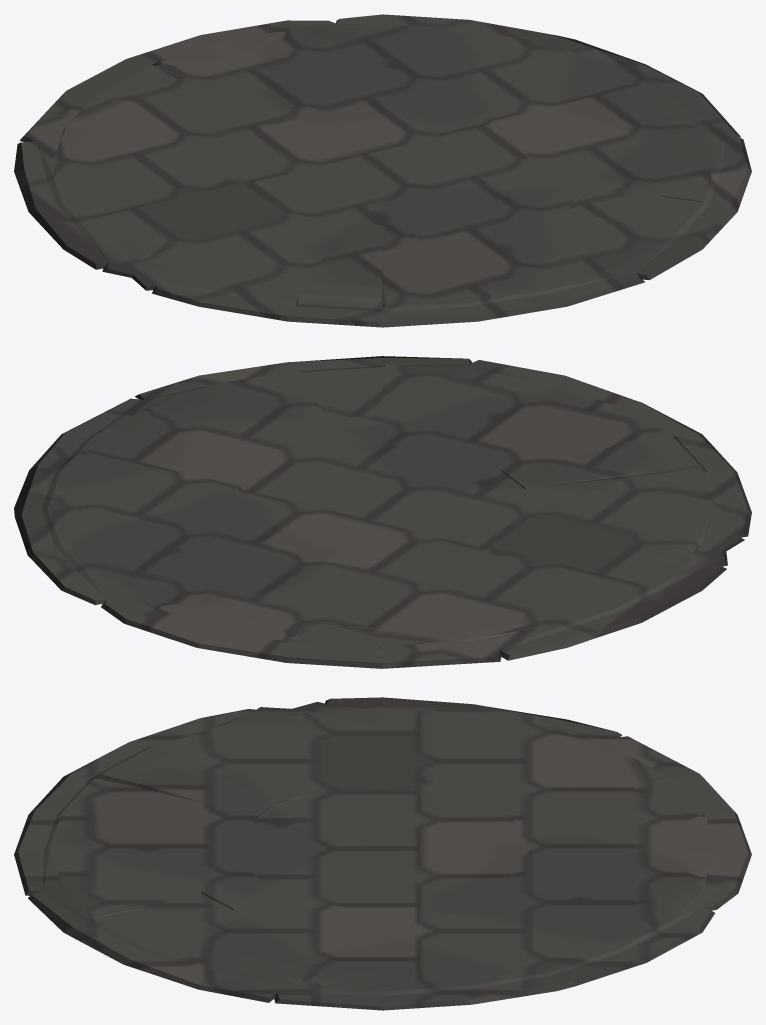
The model's file is Center.fbx.
3 renders of one model, top to bottom at view 1: azimuth 30°, elevation 25°; view 2: azimuth 150°, elevation 25°; view 3: azimuth 270°, elevation 25°, orthographic.
Visible parts, largest first — view 1: SM_Prop_Rug_02_Round_01; view 2: SM_Prop_Rug_02_Round_01; view 3: SM_Prop_Rug_02_Round_01.
Part boxes in pixels (bbox=[...]): SM_Prop_Rug_02_Round_01: bbox=[14, 14, 751, 327]; SM_Prop_Rug_02_Round_01: bbox=[14, 356, 751, 668]; SM_Prop_Rug_02_Round_01: bbox=[14, 697, 751, 1010].
Bounding box in the file's own units: 23.52 × 0.3938 × 23.52.
1 material, 1 textured.
